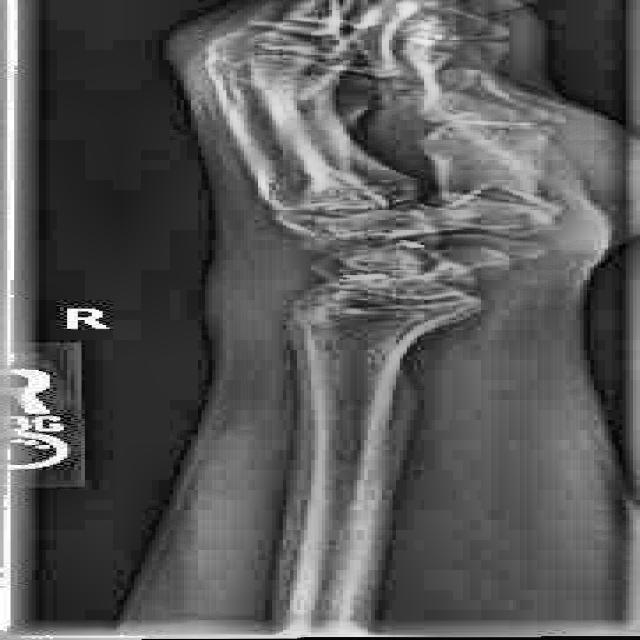fingers positive: (244, 272, 544, 344)
